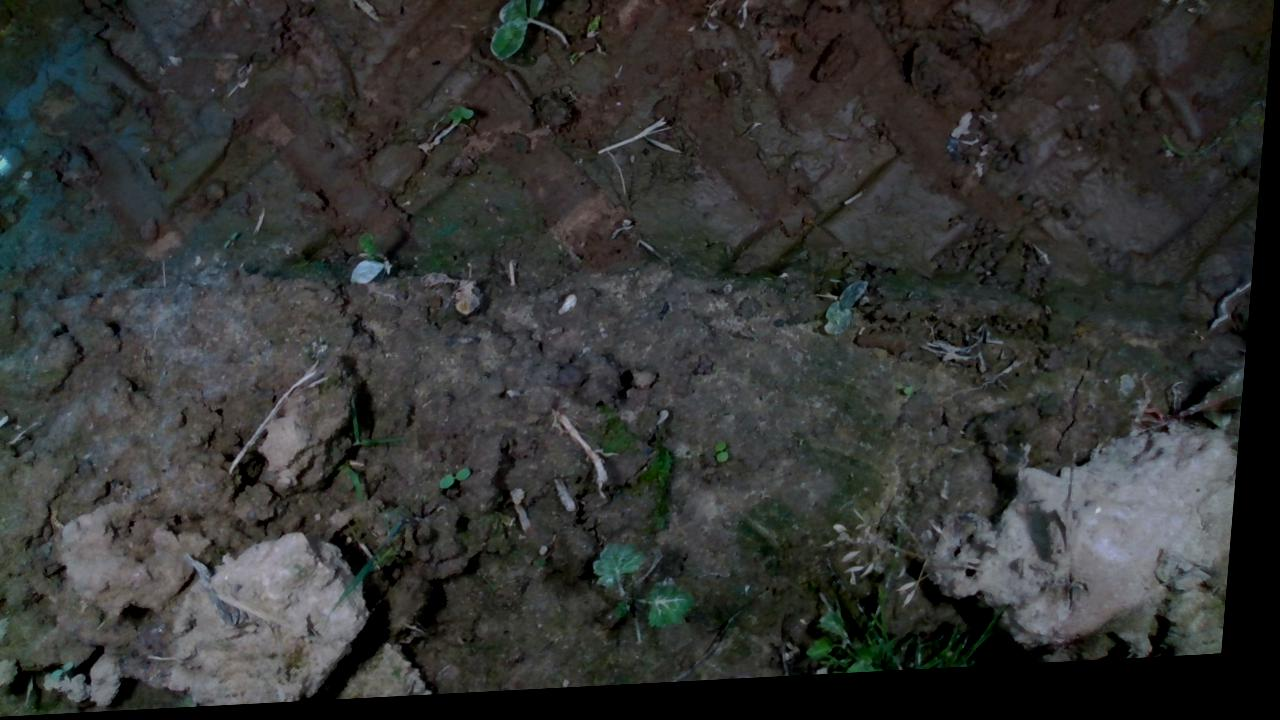weed: (720, 446, 739, 471)
